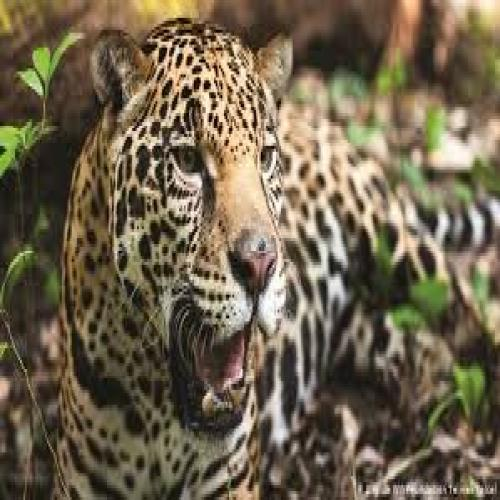jaguar_not-endangered: (46, 23, 500, 495)
